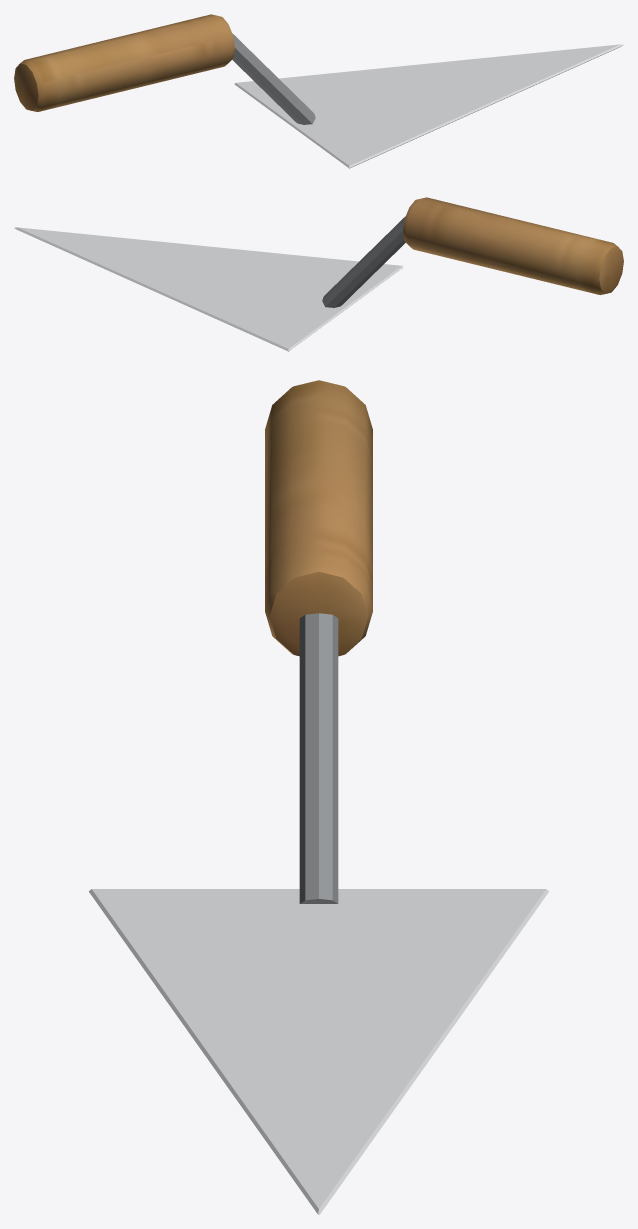
File: EQP-MAO-006_lod1.glb
The picture shows the model from 3 angles, top to bottom: view 1: azimuth 30°, elevation 25°; view 2: azimuth 150°, elevation 25°; view 3: azimuth 270°, elevation 25°; orthographic projection. The views are drawn at different scales.
Visible parts, largest first — view 1: EQP-MAO-006_lamina, EQP-MAO-006_cabo, EQP-MAO-006_haste; view 2: EQP-MAO-006_lamina, EQP-MAO-006_cabo, EQP-MAO-006_haste; view 3: EQP-MAO-006_lamina, EQP-MAO-006_cabo, EQP-MAO-006_haste.
Part boxes in pixels (left/top/right/bottom): EQP-MAO-006_lamina: left=234, top=44, right=623, bottom=168; EQP-MAO-006_cabo: left=14, top=14, right=234, bottom=111; EQP-MAO-006_haste: left=232, top=33, right=315, bottom=124; EQP-MAO-006_lamina: left=14, top=227, right=403, bottom=351; EQP-MAO-006_cabo: left=403, top=197, right=623, bottom=294; EQP-MAO-006_haste: left=322, top=216, right=405, bottom=307; EQP-MAO-006_lamina: left=89, top=889, right=548, bottom=1214; EQP-MAO-006_cabo: left=265, top=380, right=372, bottom=656; EQP-MAO-006_haste: left=299, top=613, right=338, bottom=903.
Size of the model in its own units: 0.3593 by 0.0758 by 0.1196.
Materials: 3 (1 with a texture image).
